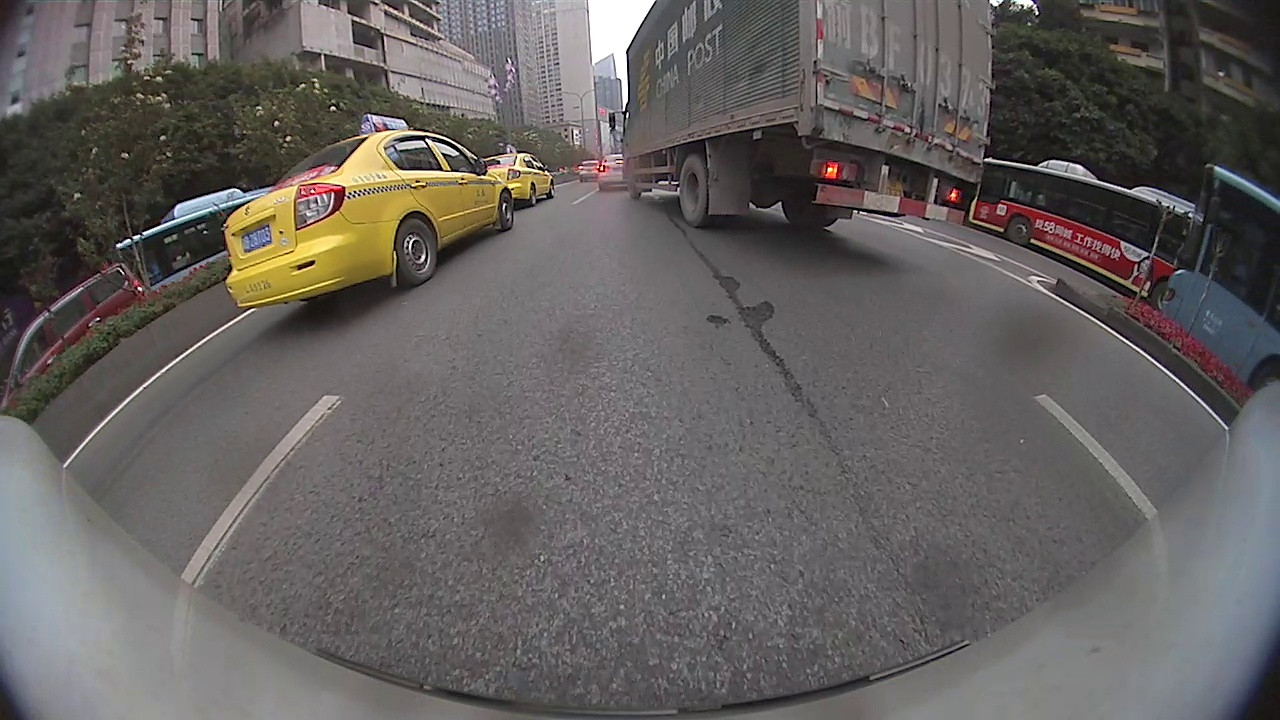bus: (971, 158, 1196, 312), (1159, 164, 1278, 392), (116, 187, 276, 292)
car: (223, 113, 515, 311), (1, 265, 148, 408), (481, 148, 556, 204), (599, 153, 625, 190), (575, 157, 601, 184)
front: (1004, 214, 1033, 248), (499, 193, 516, 231)
rear: (394, 216, 438, 282), (677, 154, 714, 227)
truck: (623, 1, 989, 230)
